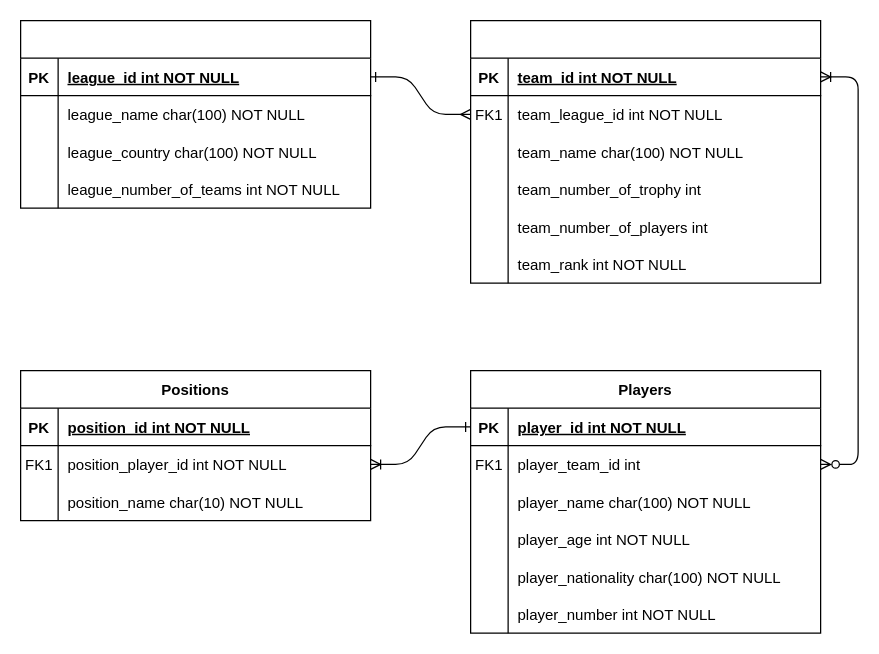
Some shapes in this 879 by 654 pixel diagram are drawn without their labels. The box of each missing label's shape, as (x1, y1, x2, y2) in pixels:
Leagues: (19, 19, 371, 208)
Teams: (469, 19, 821, 283)
